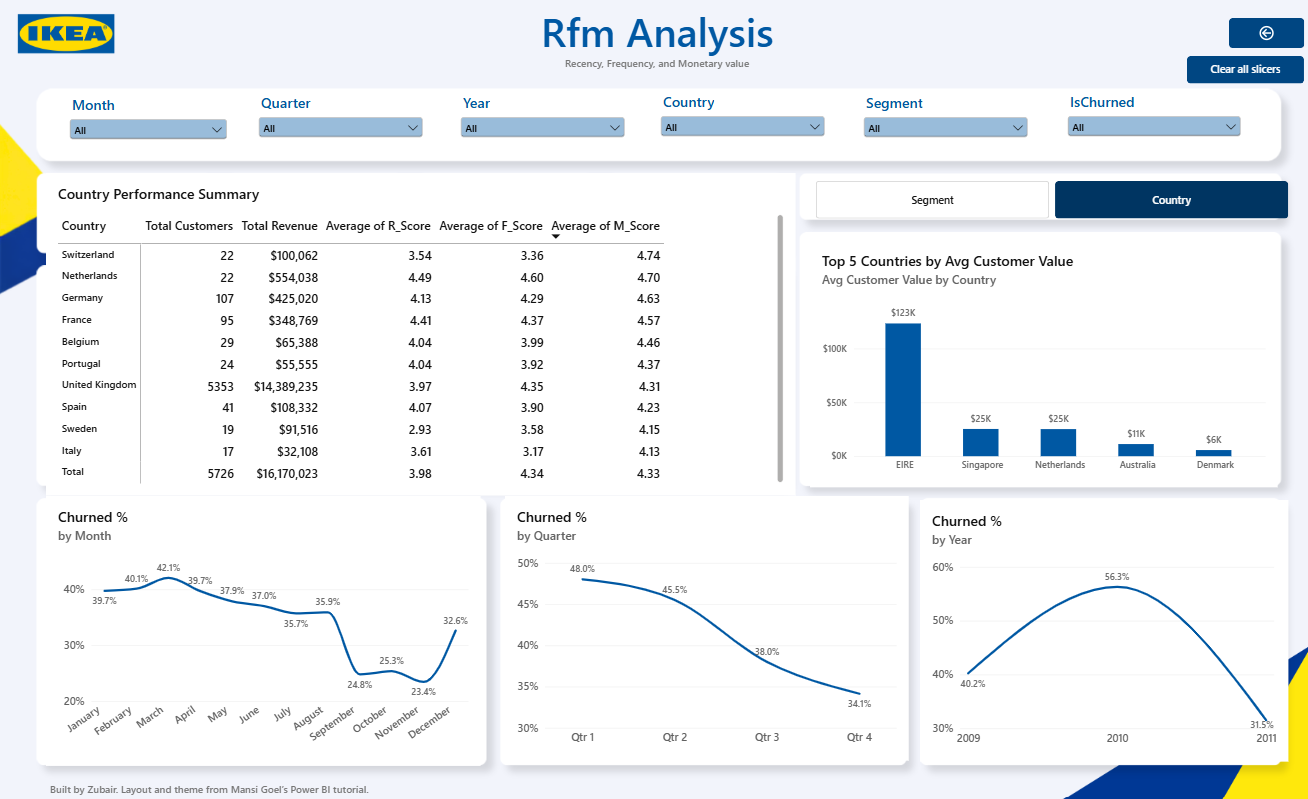

Layout of this report page (visuals, bound fields, positions):
{"tool":"powerbi","page":{"name":"Rfm Analysis","canvas":[1920,1080],"ordinal":1},"visuals":[{"type":"slicer","fields":{"Values":["Sheet1.InvoiceDate.Variation.Date Hierarchy.Month"]},"box":[174.6,136.5,218.6,74.2],"z":0},{"type":"columnChart","title":"Top 5 Countries by Avg Customer Value","fields":{"Category":["Sheet1.Country"],"Y":["Sheet1.Avg Customer Value"]},"box":[1163.5,330.2,622.2,328.6],"z":0,"group":"g2"},{"type":"lineChart","fields":{"Category":["Sheet1.InvoiceDate.Variation.Date Hierarchy.Month"],"Y":["Sheet1.Churned %"]},"box":[147.6,669.8,577.8,358.7],"z":0,"group":"g1"},{"type":"slicer","fields":{"Values":["Sheet1.InvoiceDate.Variation.Date Hierarchy.Quarter"]},"box":[425.4,134.9,227.8,74.2],"z":1000},{"type":"pivotTable","title":"Country Performance Summary","fields":{"Rows":["Sheet1.Country"],"Values":["Sheet1.Total Customers","Sheet1.Total Revenue","Avg(Sheet1.R_Score)","Avg(Sheet1.F_Score)","Avg(Sheet1.M_Score)"]},"box":[147.6,241.3,996.8,428.6],"z":1000,"group":"g2"},{"type":"lineChart","fields":{"Category":["Sheet1.InvoiceDate.Variation.Date Hierarchy.Year"],"Y":["Sheet1.Churned %"]},"box":[1309.5,674.6,490.5,347.6],"z":1000,"group":"g1"},{"type":"slicer","fields":{"Values":["Sheet1.InvoiceDate.Variation.Date Hierarchy.Year"]},"box":[693.7,134.9,227.8,74.2],"z":2000},{"type":"lineChart","fields":{"Category":["Sheet1.InvoiceDate.Variation.Date Hierarchy.Quarter"],"Y":["Sheet1.Churned %"]},"box":[758.7,669.8,536.5,352.4],"z":2000,"group":"g1"},{"type":"slicer","fields":{"Values":["Sheet1.Country"]},"box":[960.3,133.3,227.8,74.2],"z":3000},{"type":"slicer","fields":{"Values":["Sheet1.Segment"]},"box":[1230.2,134.9,227.8,74.2],"z":4000},{"type":"slicer","fields":{"Values":["Sheet1.IsChurned"]},"box":[1501.6,133.3,239.7,74.6],"z":5000},{"type":"group","id":"g1","title":"Customers","box":[147.6,669.8,1652.4,358.7],"z":6000},{"type":"bookmarkNavigator","box":[1171.4,250.8,628.6,50.8],"z":8000},{"type":"textbox","box":[1650,230,270,150],"z":9000},{"type":"textbox","box":[1650,80,270,150],"z":10000},{"type":"textbox","box":[152.4,1050.8,452.4,28.6],"z":11000},{"type":"image","box":[15.9,0,317.5,111.1],"z":12000},{"type":"textbox","box":[671.4,14.3,577.8,122.2],"z":13000},{"type":"actionButton","box":[1720.6,34.9,100,40],"z":14000},{"type":"actionButton","box":[1665.1,85.7,155.6,36.5],"z":15000},{"type":"group","id":"g2","title":"Country","box":[147.6,241.3,1638.1,428.6],"z":17000}]}

Visuals, with their boxes on the page's 1920x1080 design canvas (x1, y1, x2, y2). These are canvas units, not pixel positions in the 1308x799 screenshot, which may show the page scaled, cropped or inside an application window:
slicer - Sheet1.InvoiceDate.Variation.Date Hierarchy.Month: {"left": 175, "top": 136, "right": 393, "bottom": 211}
"Top 5 Countries by Avg Customer Value" columnChart: {"left": 1164, "top": 330, "right": 1786, "bottom": 659}
lineChart - Sheet1.InvoiceDate.Variation.Date Hierarchy.Month x Sheet1.Churned %: {"left": 148, "top": 670, "right": 725, "bottom": 1028}
slicer - Sheet1.InvoiceDate.Variation.Date Hierarchy.Quarter: {"left": 425, "top": 135, "right": 653, "bottom": 209}
"Country Performance Summary" pivotTable: {"left": 148, "top": 241, "right": 1144, "bottom": 670}
lineChart - Sheet1.InvoiceDate.Variation.Date Hierarchy.Year x Sheet1.Churned %: {"left": 1310, "top": 675, "right": 1800, "bottom": 1022}
slicer - Sheet1.InvoiceDate.Variation.Date Hierarchy.Year: {"left": 694, "top": 135, "right": 922, "bottom": 209}
lineChart - Sheet1.InvoiceDate.Variation.Date Hierarchy.Quarter x Sheet1.Churned %: {"left": 759, "top": 670, "right": 1295, "bottom": 1022}
slicer - Sheet1.Country: {"left": 960, "top": 133, "right": 1188, "bottom": 208}
slicer - Sheet1.Segment: {"left": 1230, "top": 135, "right": 1458, "bottom": 209}
slicer - Sheet1.IsChurned: {"left": 1502, "top": 133, "right": 1741, "bottom": 208}
"Customers" group: {"left": 148, "top": 670, "right": 1800, "bottom": 1028}
bookmarkNavigator: {"left": 1171, "top": 251, "right": 1800, "bottom": 302}
textbox: {"left": 1650, "top": 230, "right": 1920, "bottom": 380}
textbox: {"left": 1650, "top": 80, "right": 1920, "bottom": 230}
textbox: {"left": 152, "top": 1051, "right": 605, "bottom": 1079}
image: {"left": 16, "top": 0, "right": 333, "bottom": 111}
textbox: {"left": 671, "top": 14, "right": 1249, "bottom": 136}
actionButton: {"left": 1721, "top": 35, "right": 1821, "bottom": 75}
actionButton: {"left": 1665, "top": 86, "right": 1821, "bottom": 122}
"Country" group: {"left": 148, "top": 241, "right": 1786, "bottom": 670}
